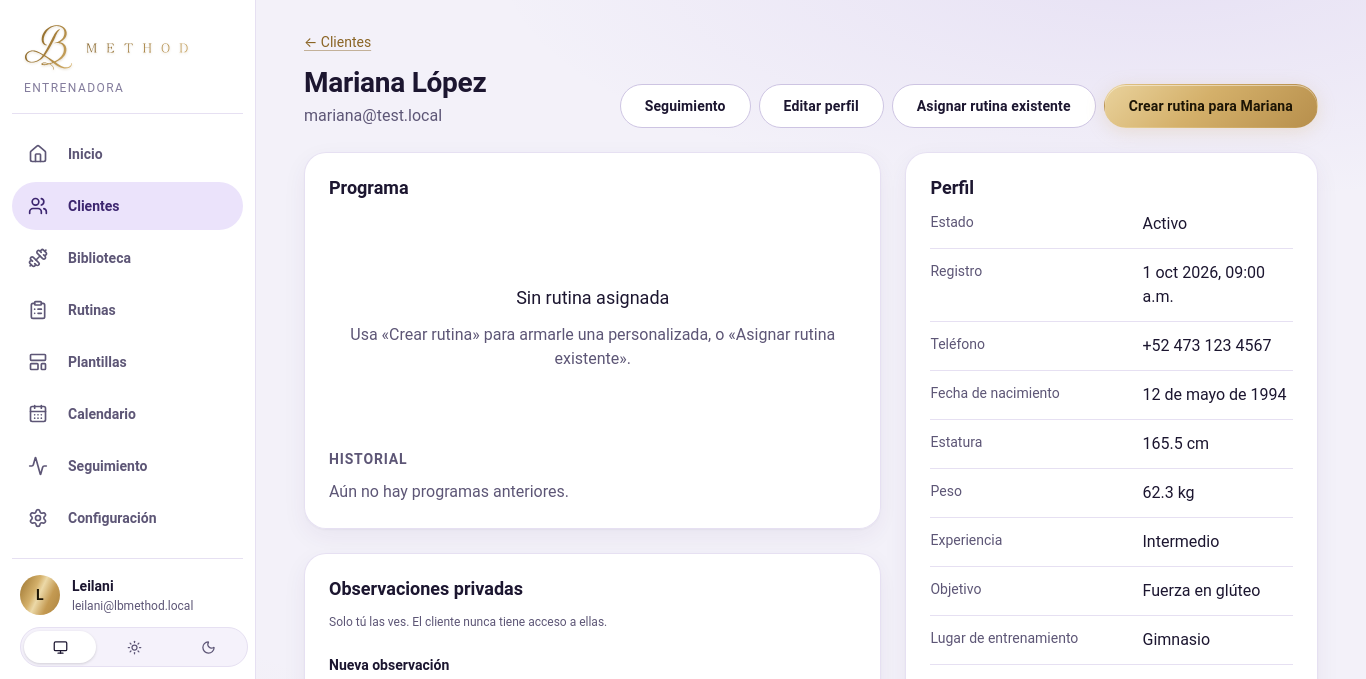
it: clientes › asignar envía la versión elegida, las fechas y solo aplica la fecha de fin sugerida si se pide
Click the button "Asignar rutina existente" at (994, 106), box [892,84,1096,128]
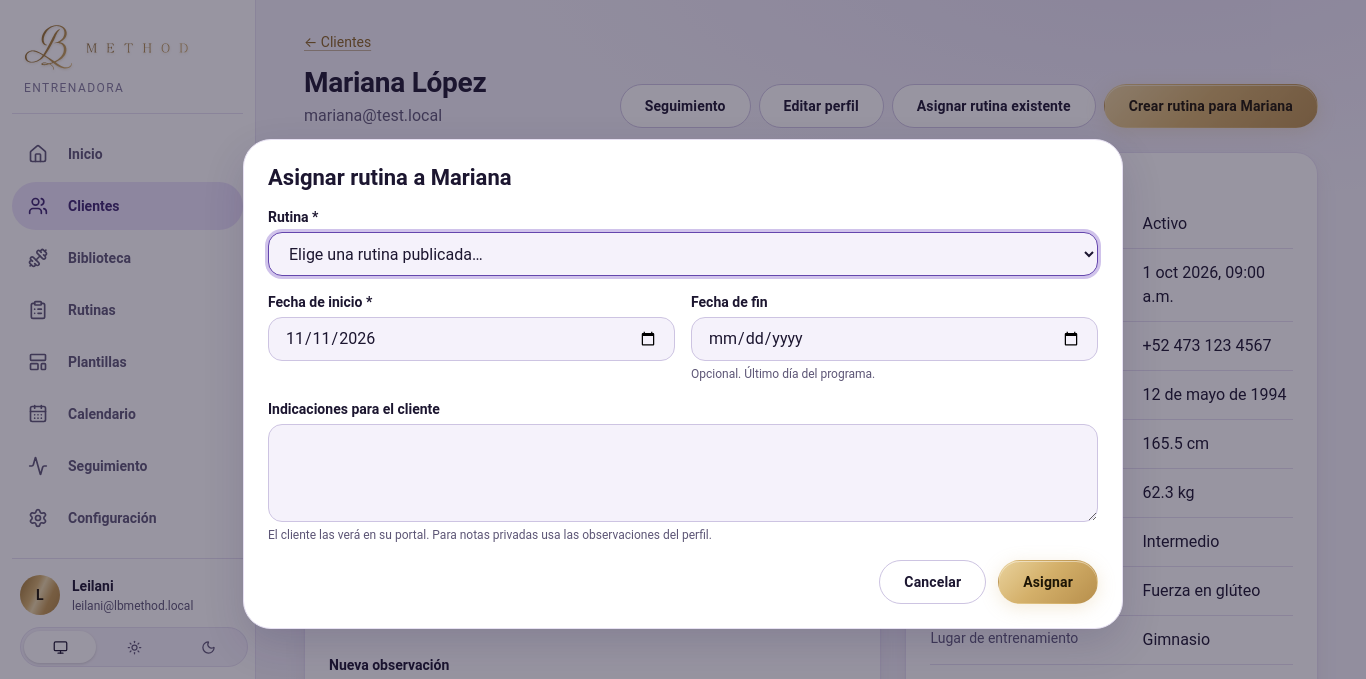
Select "Glúteo 6 semanas" in the dropdown labelled "Rutina *" at (683, 254), box [268,232,1098,276]
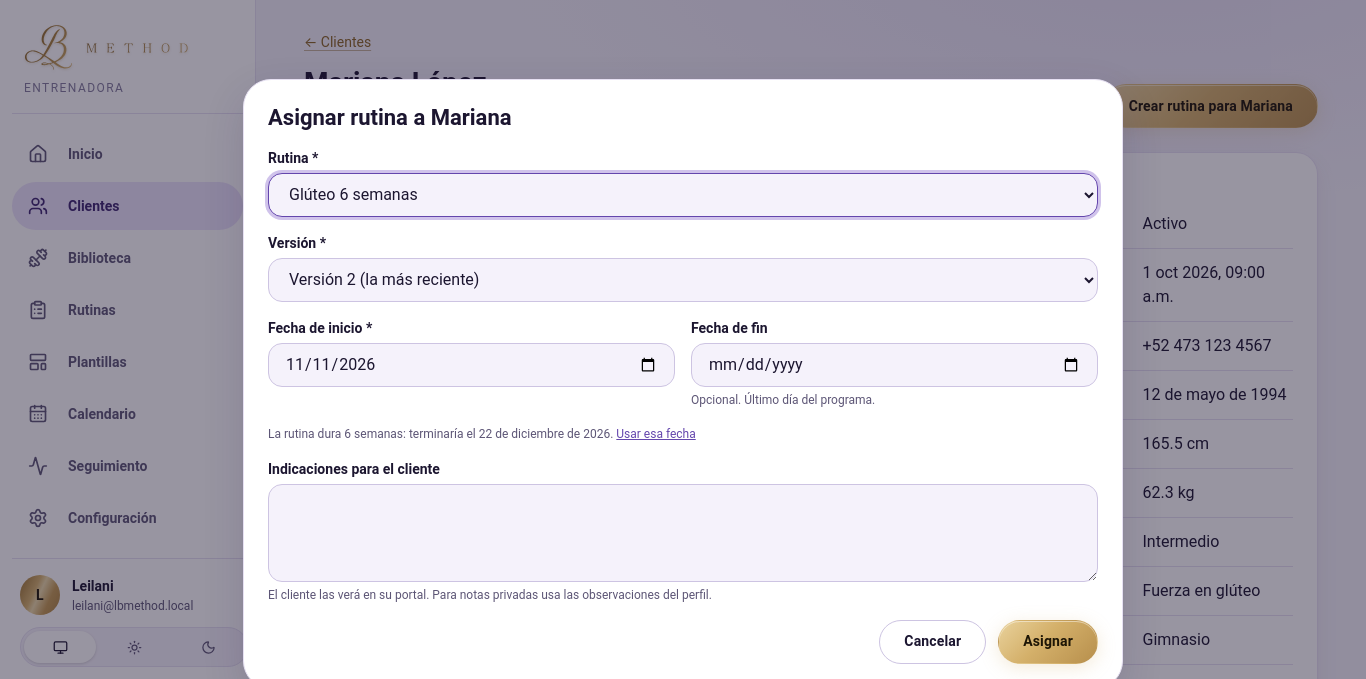
expect the date field labelled "Fecha de fin" is empty: met, box [691,343,1098,387]
Click the button "Usar esa fecha" at (656, 434), box [616,425,696,443]
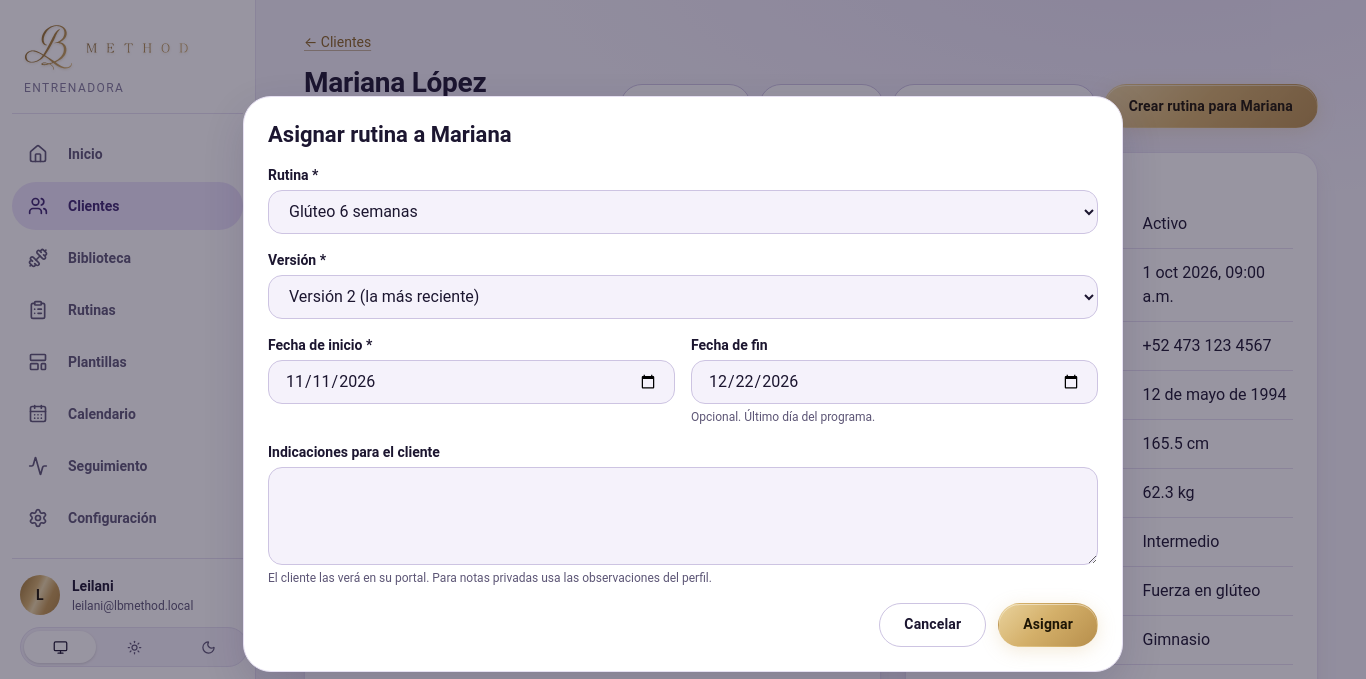
Type "Calienta antes" into the text box labelled "Indicaciones para el cliente" at (683, 516), box [268,467,1098,565]
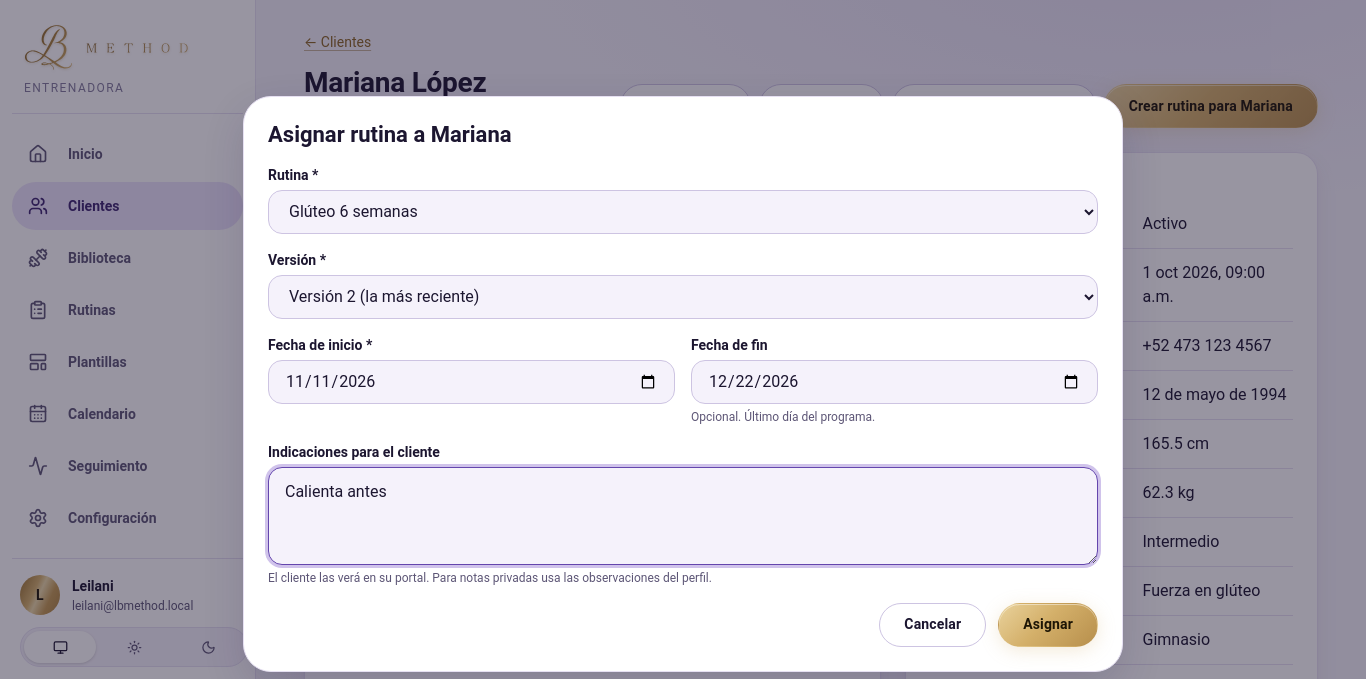
Click the button "Asignar" at (1048, 625), box [998,603,1098,647]
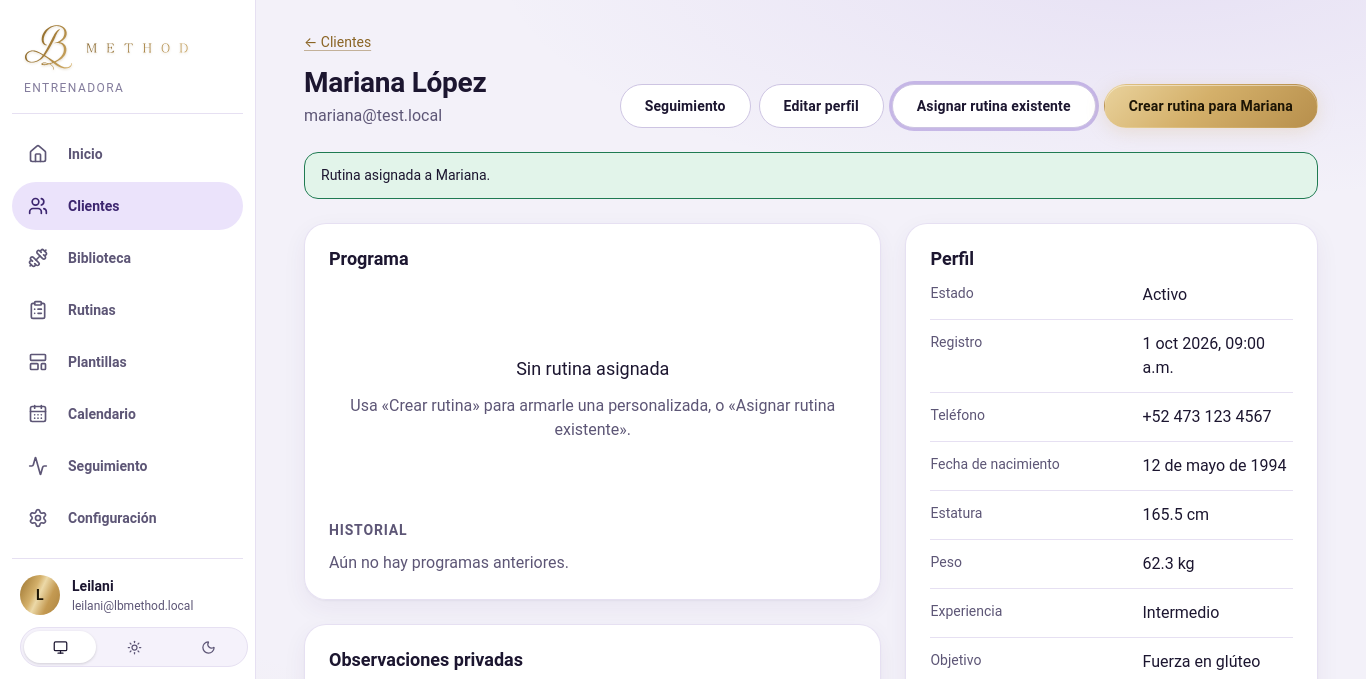
expect the text "Rutina asignada a Mariana." is shown: met, box [304,152,1318,199]
